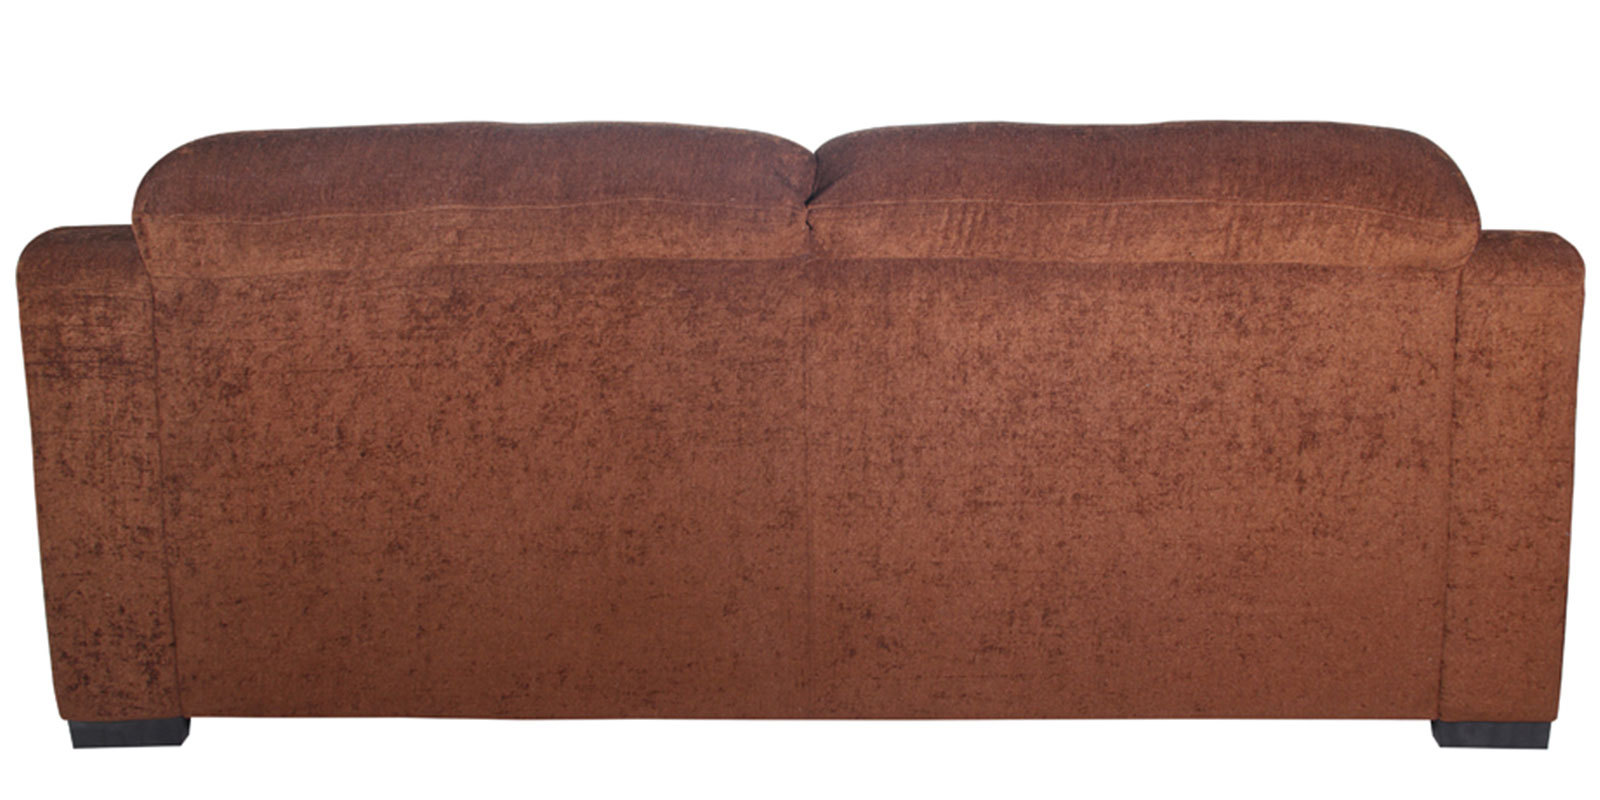Poland Three Seater Sofa in Chocolate Brown Colour by Furniture Mind: (13, 119, 1585, 750)
